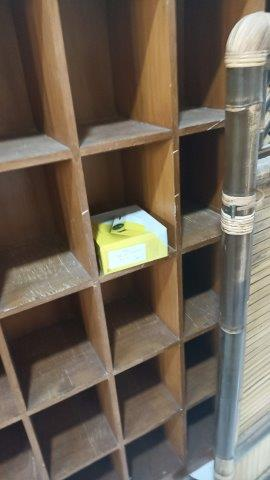kardus: (89, 205, 168, 274)
